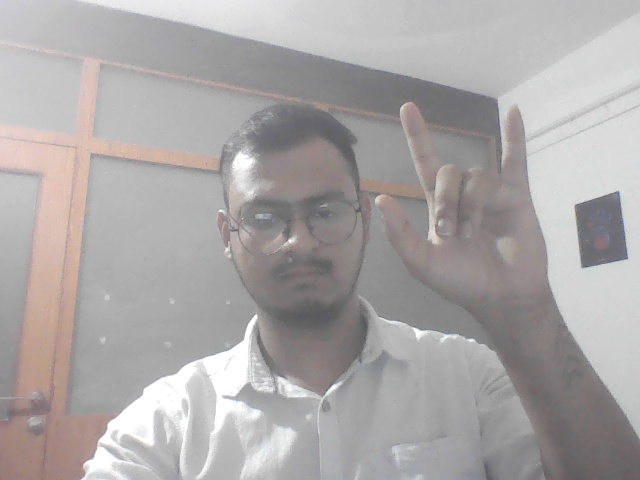I Love You: (366, 95, 572, 312)
